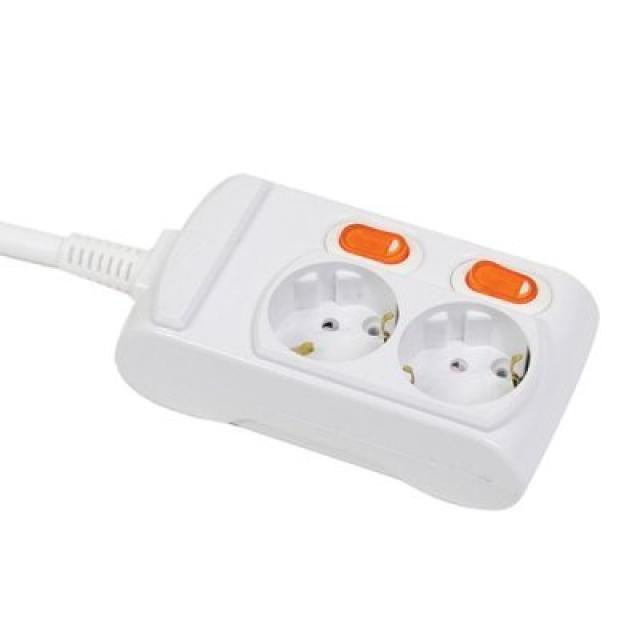typeb: (95, 125, 620, 538)
